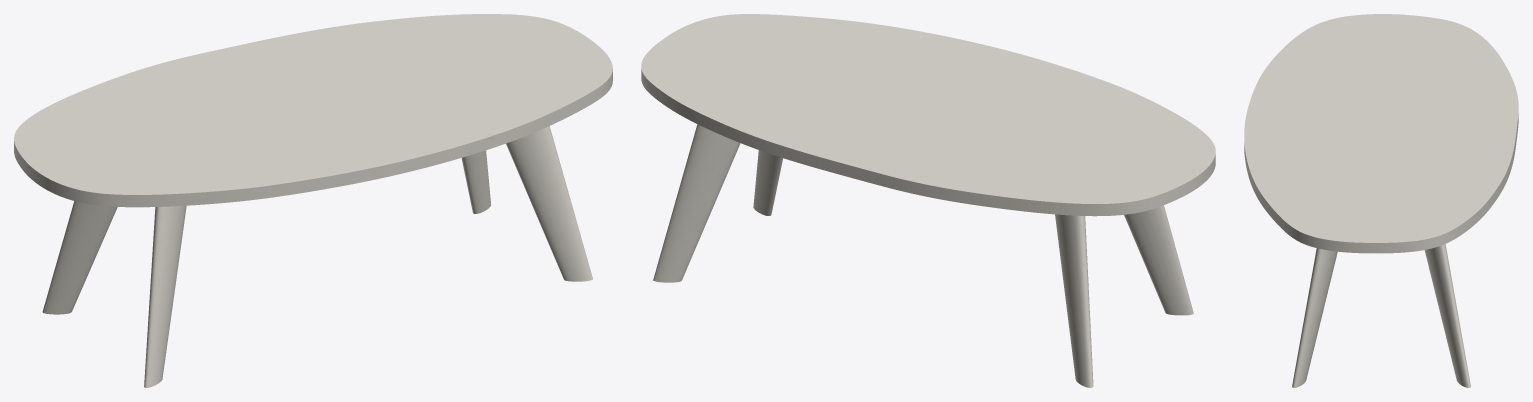
The model's file is pale_danish_standard_ferdinantwalnut.glb.
3 renders of one model, left to right at view 1: azimuth 30°, elevation 25°; view 2: azimuth 150°, elevation 25°; view 3: azimuth 270°, elevation 25°, orthographic. The views are drawn at different scales.
Visible parts, largest first — view 1: standard_danish, ferdinandwalnut; view 2: standard_danish, ferdinandwalnut; view 3: standard_danish, ferdinandwalnut.
Part boxes in pixels (x1,y1,x2,y2): standard_danish: [14, 14, 612, 207]; ferdinandwalnut: [42, 126, 592, 387]; standard_danish: [641, 14, 1215, 216]; ferdinandwalnut: [653, 124, 1193, 387]; standard_danish: [1244, 14, 1518, 253]; ferdinandwalnut: [1292, 244, 1470, 387].
Bounding box in the file's own units: 7.5 × 2.51 × 3.8.
1 material, 1 textured.
